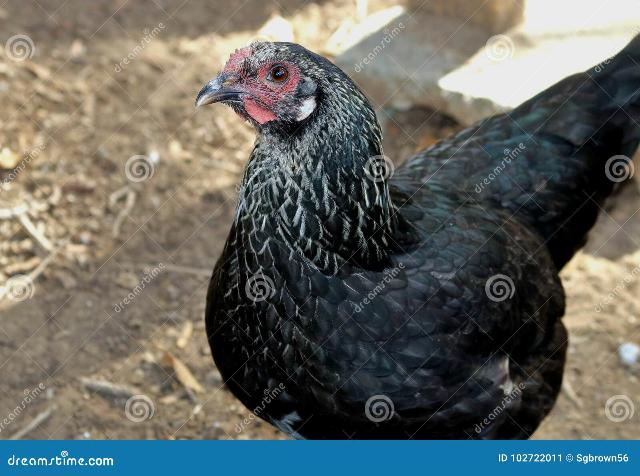Chicken: (193, 32, 640, 441)
